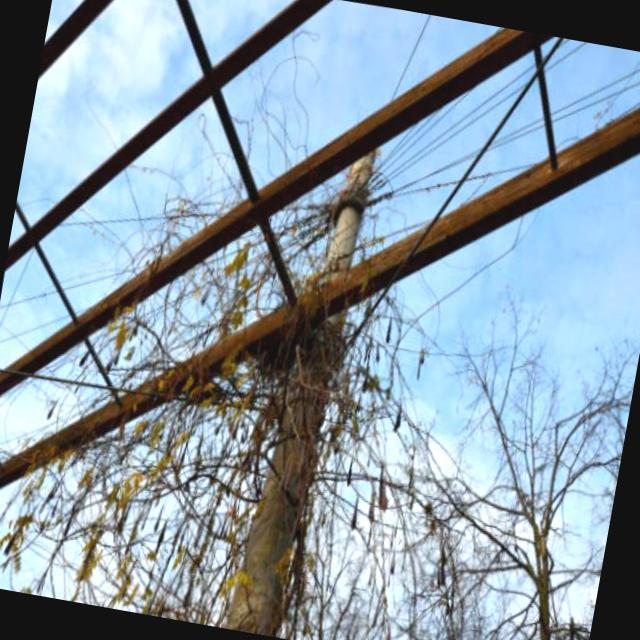critical vegetation: (261, 138, 396, 481)
